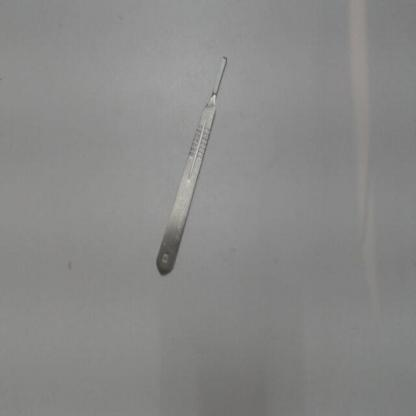No.4 BP Handle: (150, 49, 234, 284)
